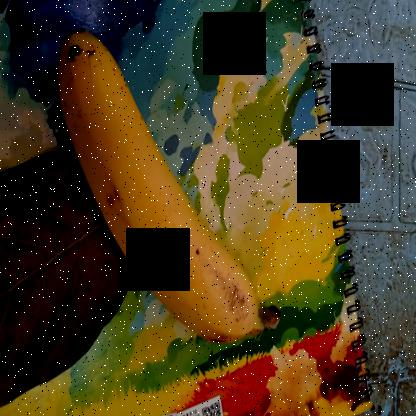freshripe: (54, 22, 271, 336)
